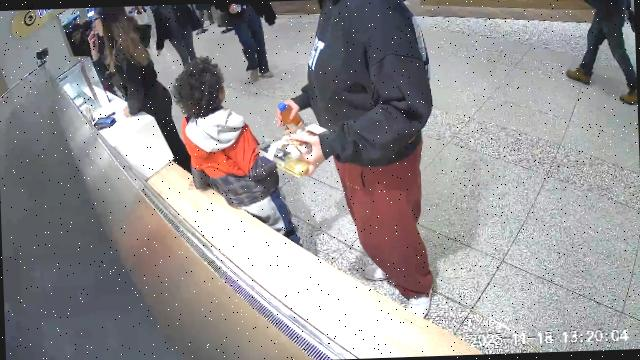sushi-box: (255, 122, 330, 166)
